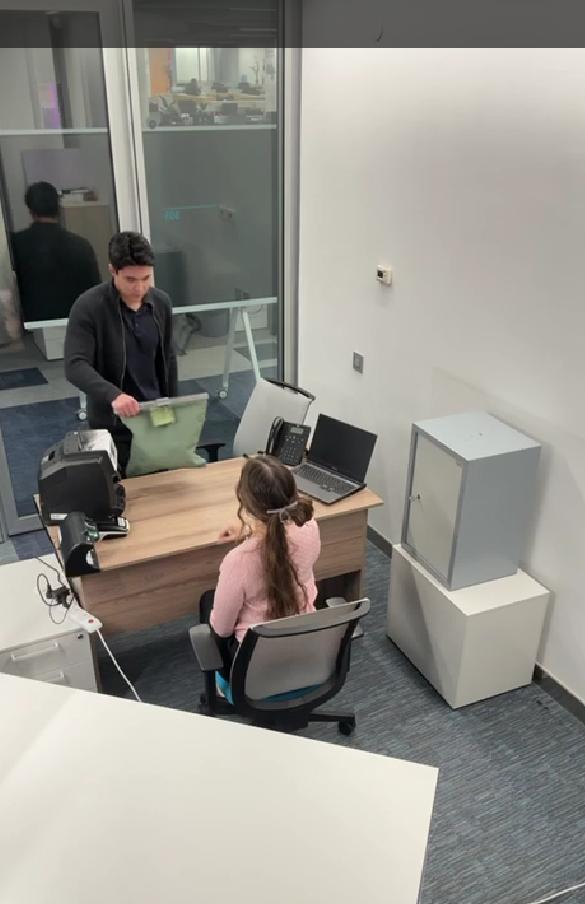cash-in-transit bag: (106, 384, 228, 488)
counter: (26, 424, 161, 540)
key_in: (400, 482, 439, 529)
uv_lamp: (36, 510, 125, 590)
